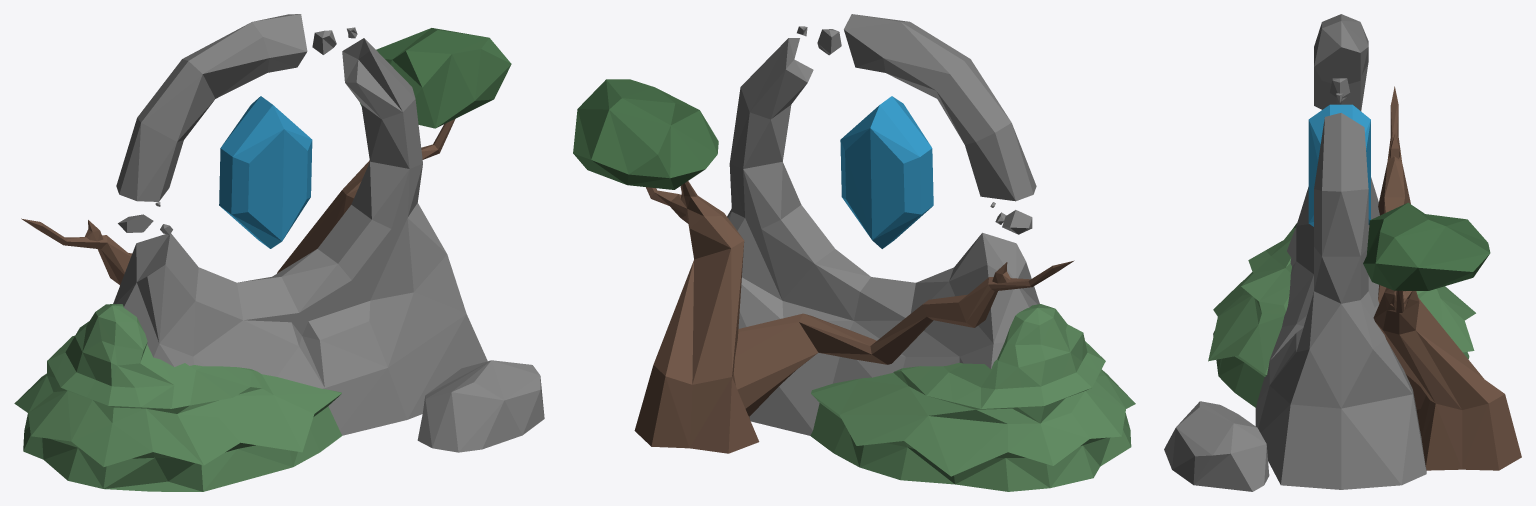
File: _sculpture_1.fbx
3 renders of one model, left to right at view 1: azimuth 30°, elevation 25°; view 2: azimuth 150°, elevation 25°; view 3: azimuth 270°, elevation 25°, orthographic. The views are drawn at different scales.
Parts seen in each view (by area): view 1: sculpture_1; view 2: sculpture_1; view 3: sculpture_1.
Part boxes in pixels (box(x1,y1,x2,y2)): sculpture_1: box(14, 14, 544, 491); sculpture_1: box(573, 14, 1135, 491); sculpture_1: box(1164, 14, 1521, 491).
Bounding box in the file's own units: 261 × 194 × 172.
